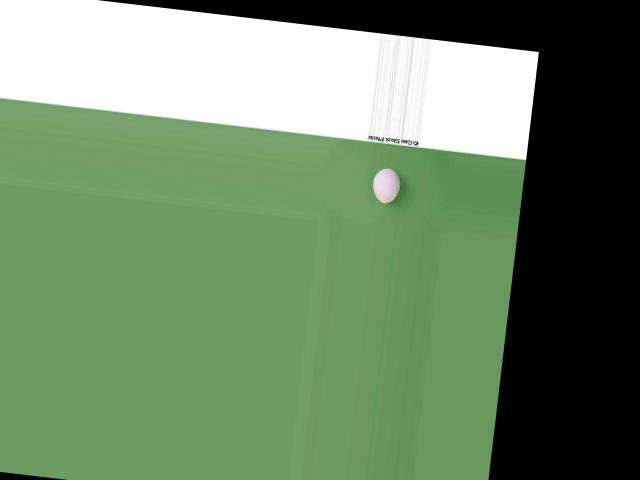egg: (370, 166, 401, 204)
